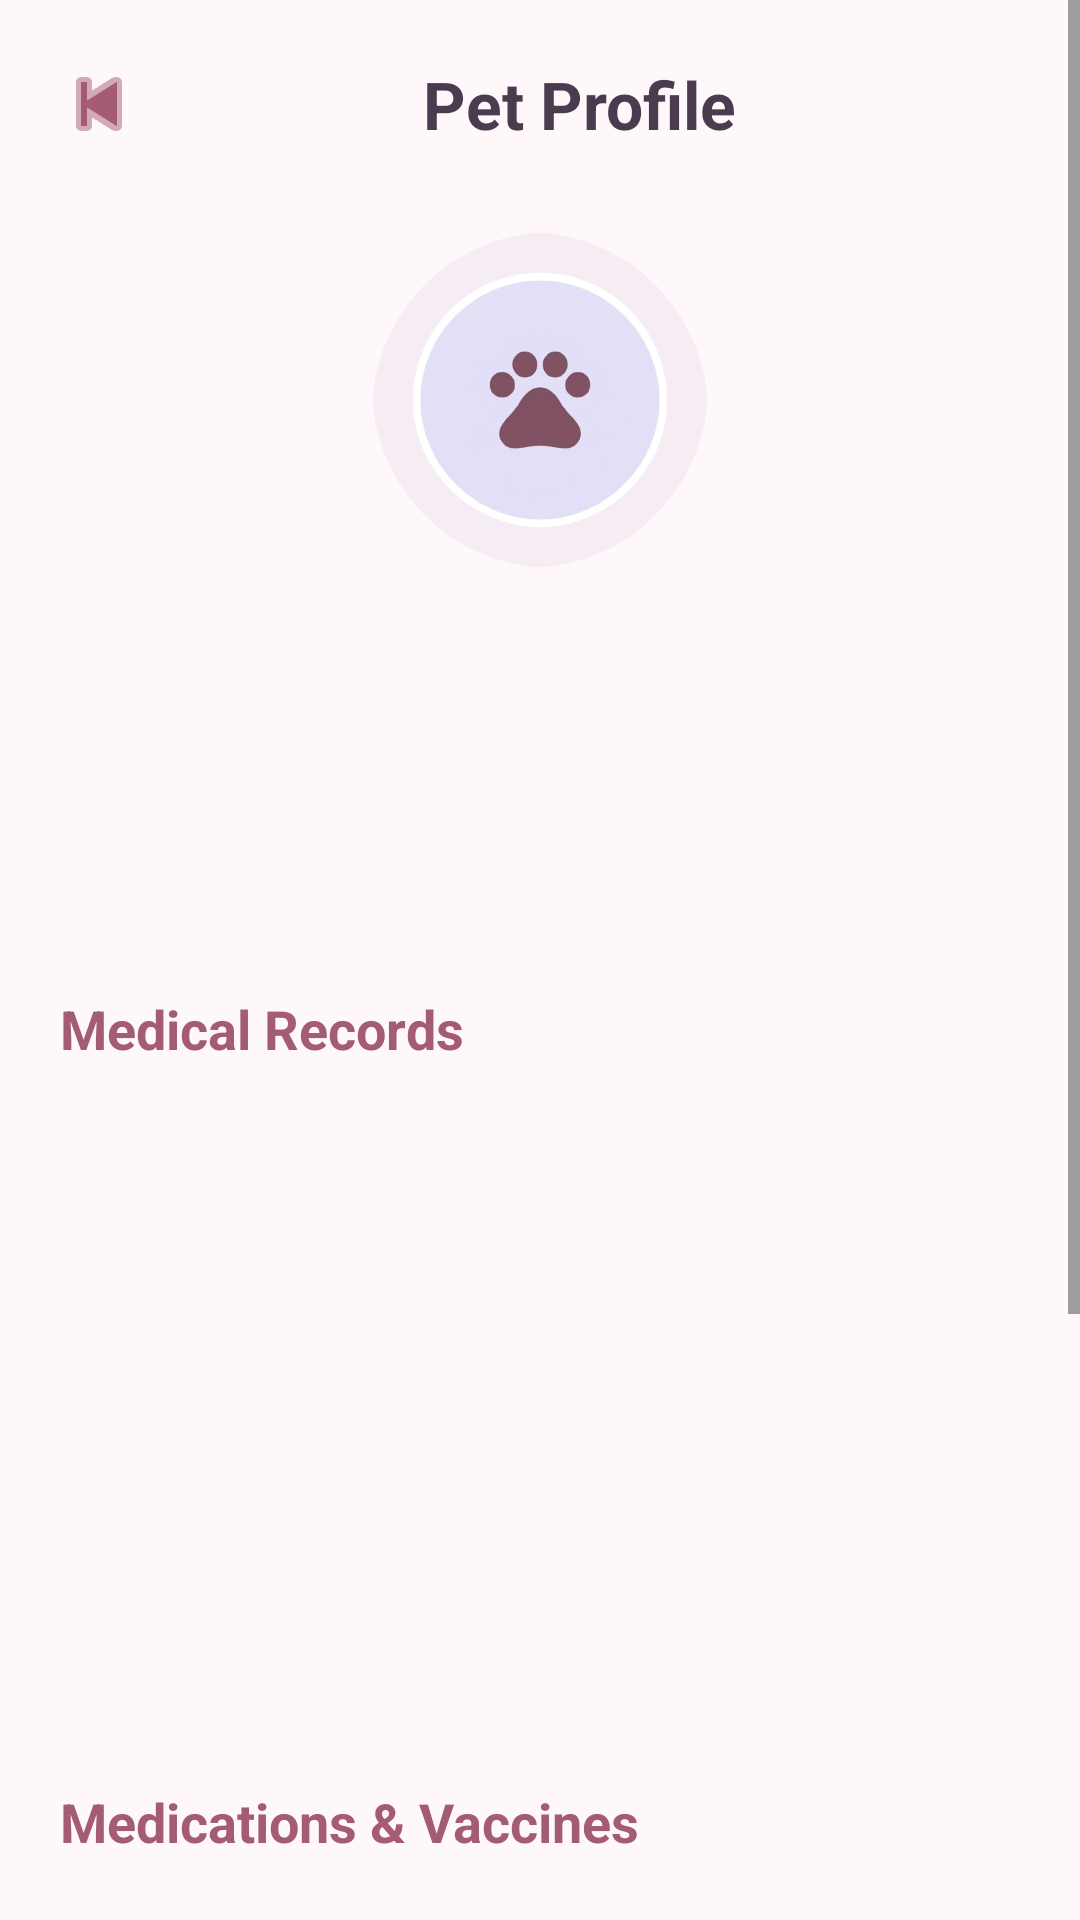

Icons on this 1080px×1920px Android screen, each with its box as {"left": x1, "top": y1, "right": x2, "bottom": y2}:
previous: {"left": 76, "top": 77, "right": 122, "bottom": 131}
